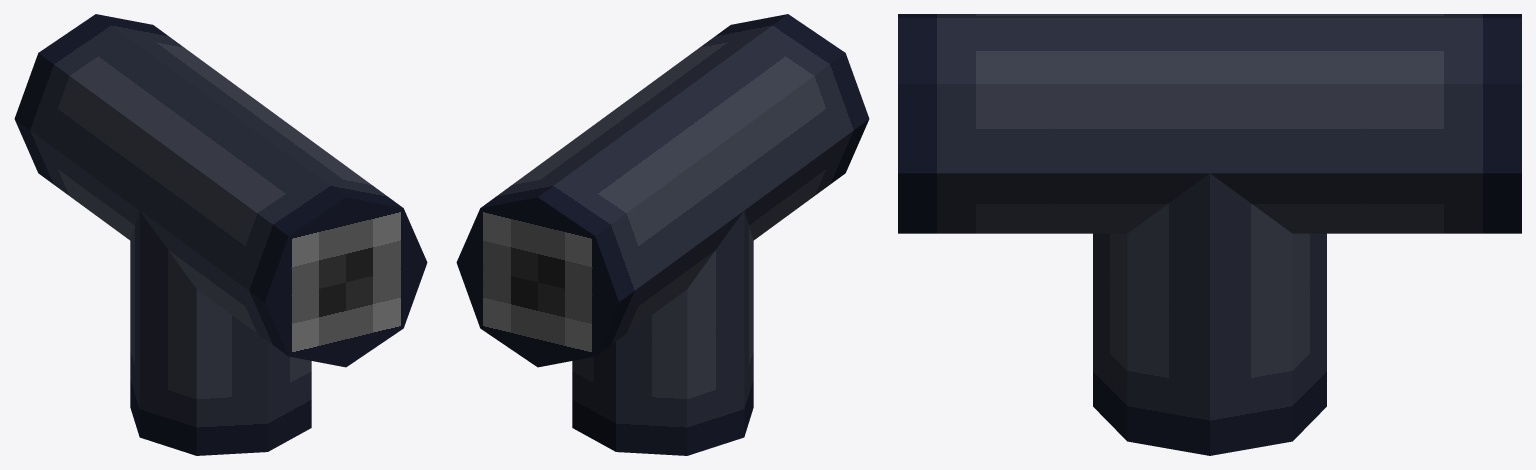
File: pipe_lava_7.obj
The picture shows the model from 3 angles, left to right: view 1: azimuth 30°, elevation 25°; view 2: azimuth 150°, elevation 25°; view 3: azimuth 270°, elevation 25°; orthographic projection. The views are drawn at different scales.
Bounding box in the file's own units: 0.375 × 0.6875 × 1.
